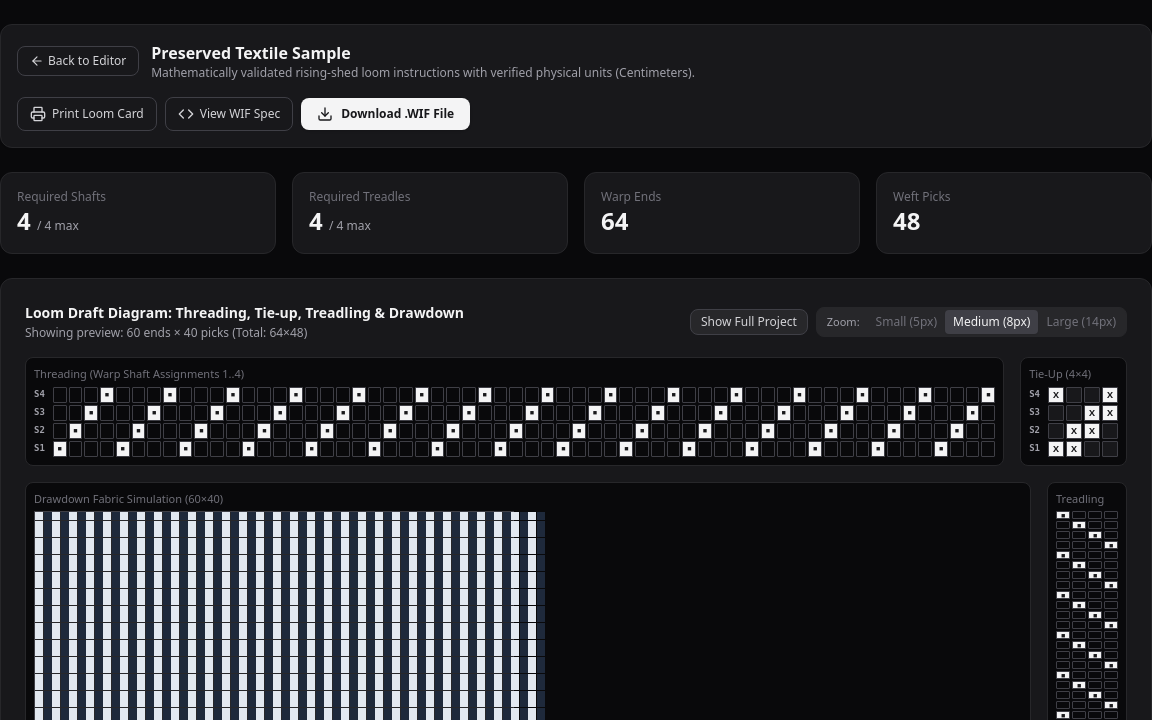
it: Issue #11: Drawdown and Treadling Previews Zoom & Scale Controls › renders scale preview banner and full drawdown view toggle when draft exceeds 60 ends
Expected: the text "Showing preview: 60 ends × 40 picks (Total: 64×48)" is shown, [25,325,307,341]
Note: Toggle to full project view
Click the button "Show Full Project" at (749,322), box [690,309,808,335]
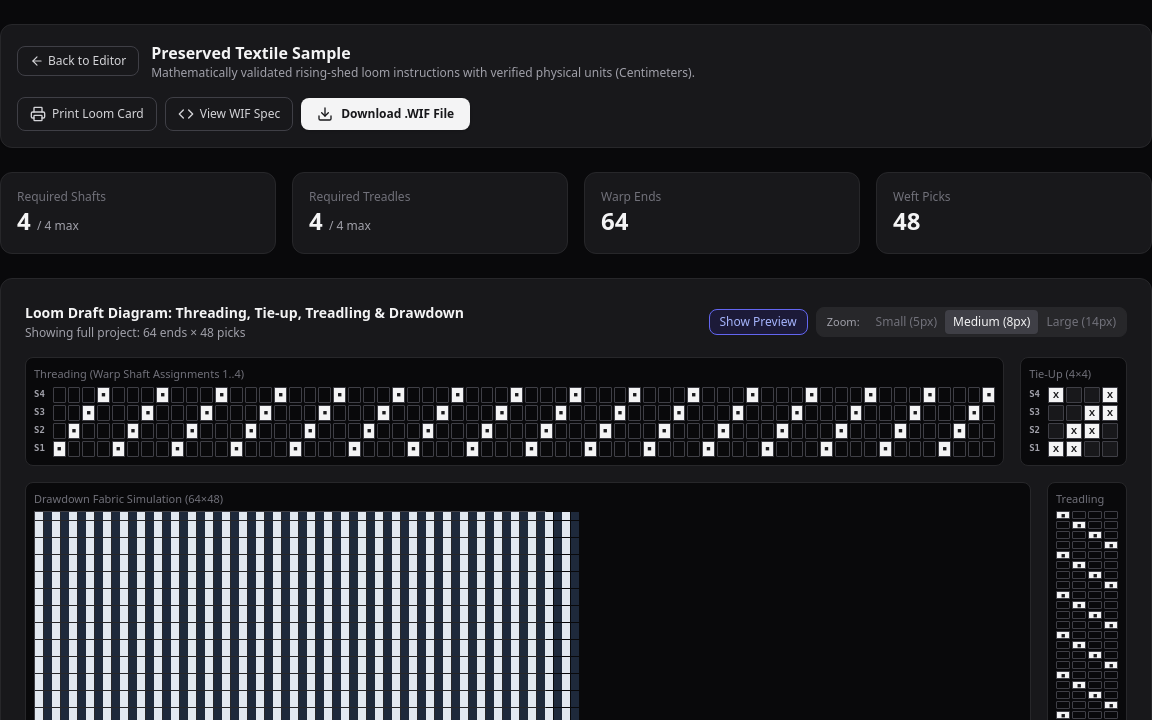
Expected: the text "Showing full project: 64 ends × 48 picks" is shown, [25,325,246,341]
Expected: the button "Show Preview" is shown, [708,309,808,335]
